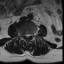CCS_severe_stenosis: (26, 31, 28, 39)
LFS_stenosis: (30, 31, 32, 37)
LLS_normal: (28, 31, 30, 38)
RFS_stenosis: (22, 31, 25, 38)
RLS_stenosis: (25, 32, 26, 38)
